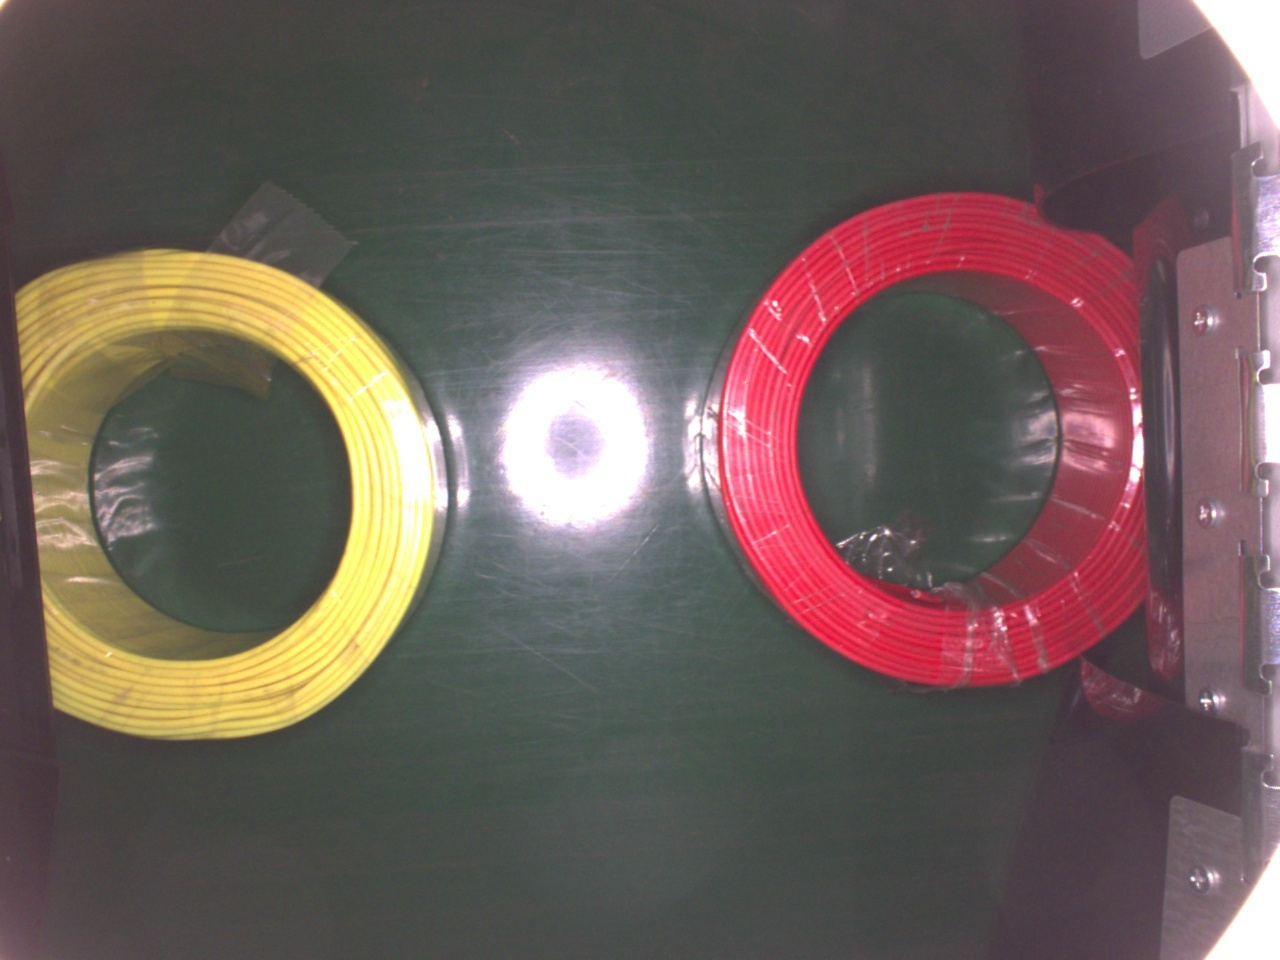red: (696, 186, 1156, 692)
yellow: (8, 246, 453, 740)
